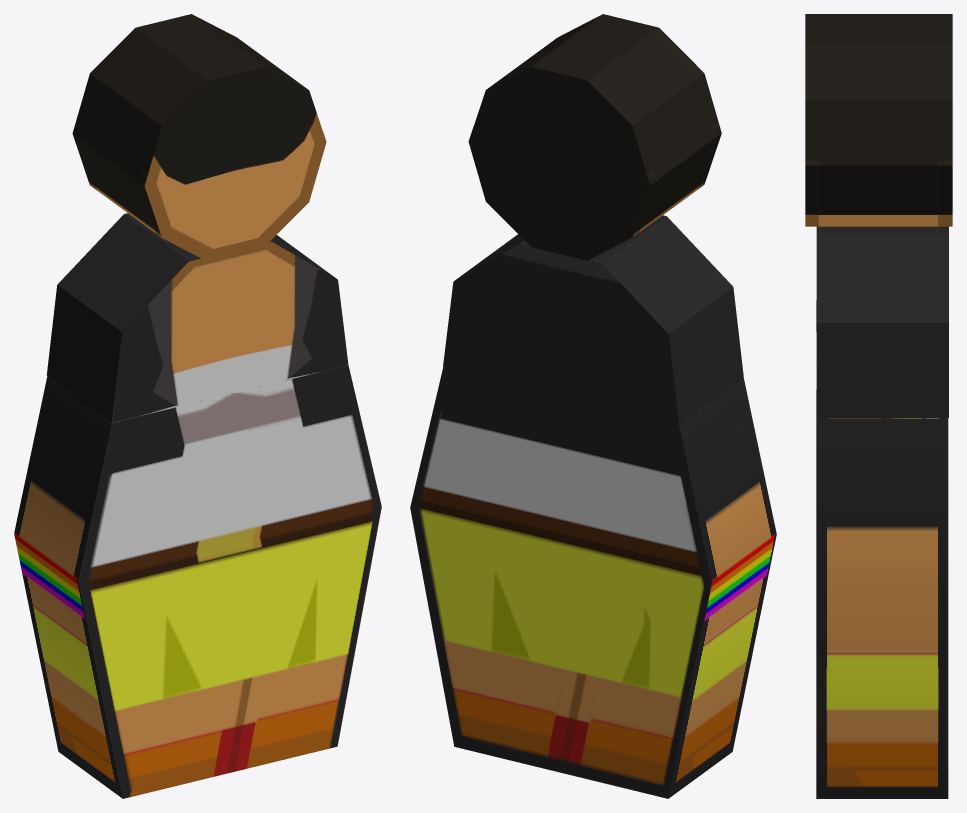
The model's file is human_pear.fbx.
3 renders of one model, left to right at view 1: azimuth 30°, elevation 25°; view 2: azimuth 150°, elevation 25°; view 3: azimuth 270°, elevation 25°, orthographic. The views are drawn at different scales.
Parts seen in each view (by area): view 1: polySurface3, pCylinder3; view 2: polySurface3, pCylinder3; view 3: polySurface3, pCylinder3.
Part boxes in pixels (x1,y1,x2,y2): polySurface3: [14, 213, 381, 798]; pCylinder3: [72, 14, 326, 261]; polySurface3: [410, 215, 776, 798]; pCylinder3: [468, 14, 721, 260]; polySurface3: [816, 226, 948, 798]; pCylinder3: [805, 14, 952, 226].
Size of the model in its own units: 2.02 by 4.47 by 0.8315.
